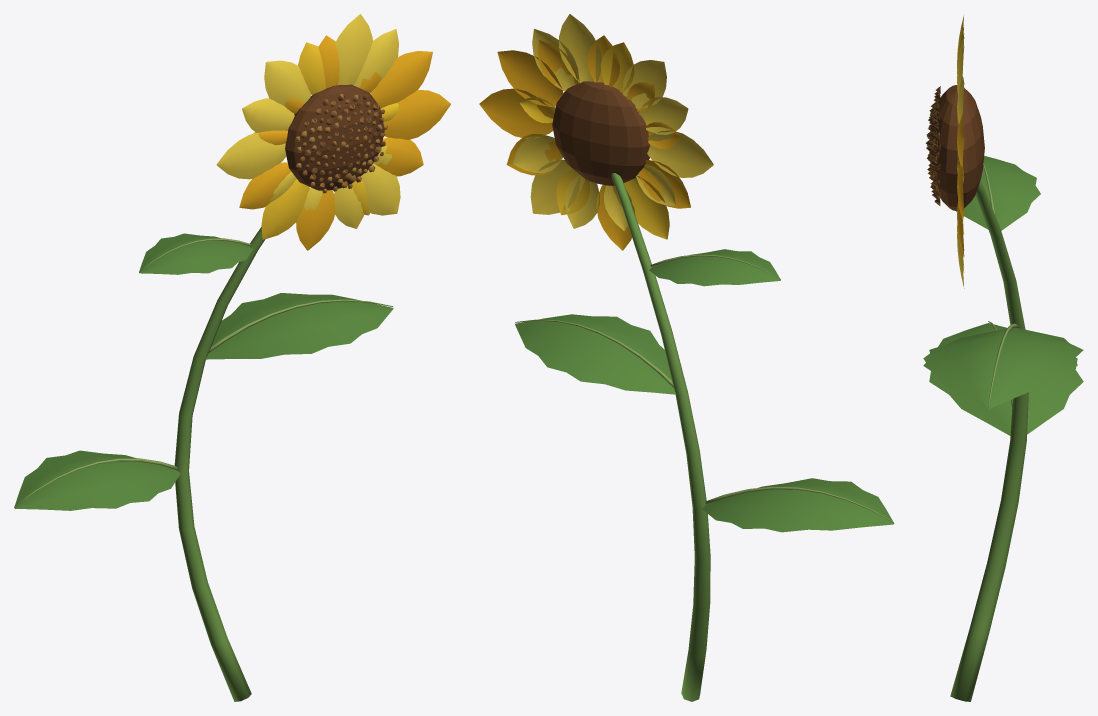
The model's file is sunflower-test-bloom-2-1.glb.
3 renders of one model, left to right at view 1: azimuth 30°, elevation 25°; view 2: azimuth 150°, elevation 25°; view 3: azimuth 270°, elevation 25°, orthographic. The views are drawn at different scales.
Parts seen in each view (by area): view 1: Curved tapered stem; view 2: Curved tapered stem; view 3: Curved tapered stem.
Boxes of the visible parts, <box> form: Curved tapered stem: <box>14,14,450,701</box>; Curved tapered stem: <box>479,14,894,701</box>; Curved tapered stem: <box>923,14,1083,701</box>.
Bounding box in the file's own units: 0.4484 × 0.6609 × 0.1317.
